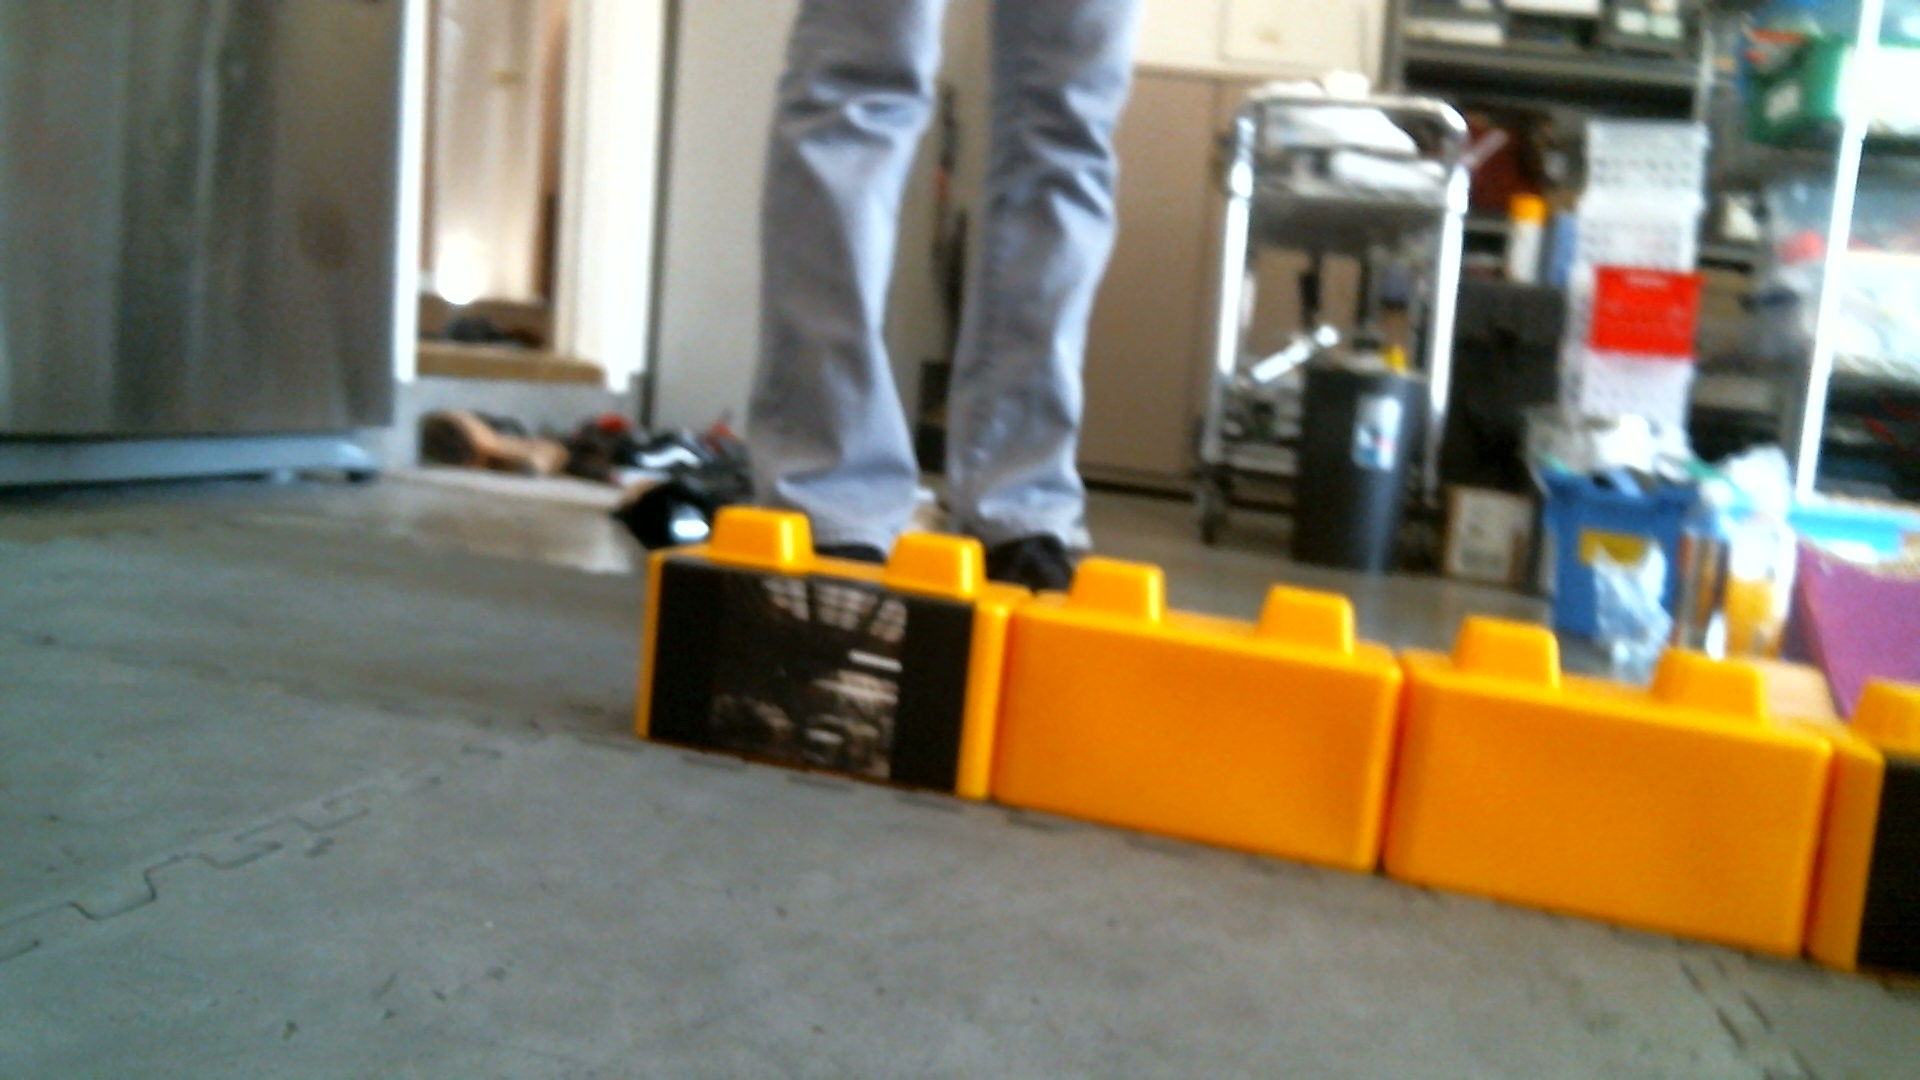skystone: (644, 509, 1000, 800)
stone: (1407, 620, 1824, 971), (1000, 550, 1383, 878)
